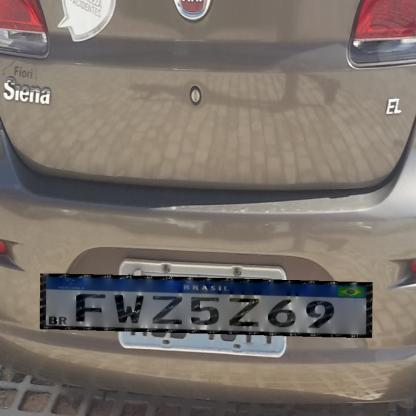PlacaM: (40, 274, 372, 338)
